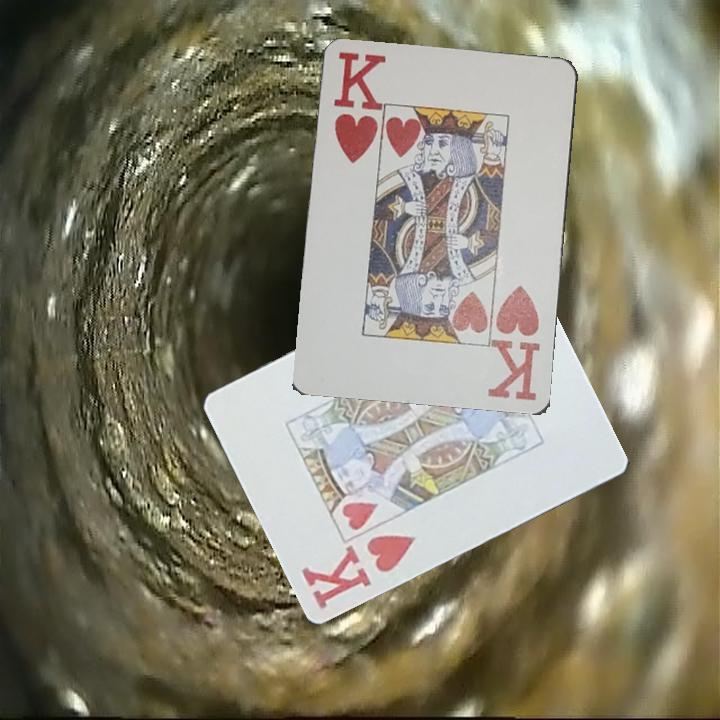Kh: (297, 531, 419, 613), (487, 282, 544, 404), (330, 48, 383, 167)
